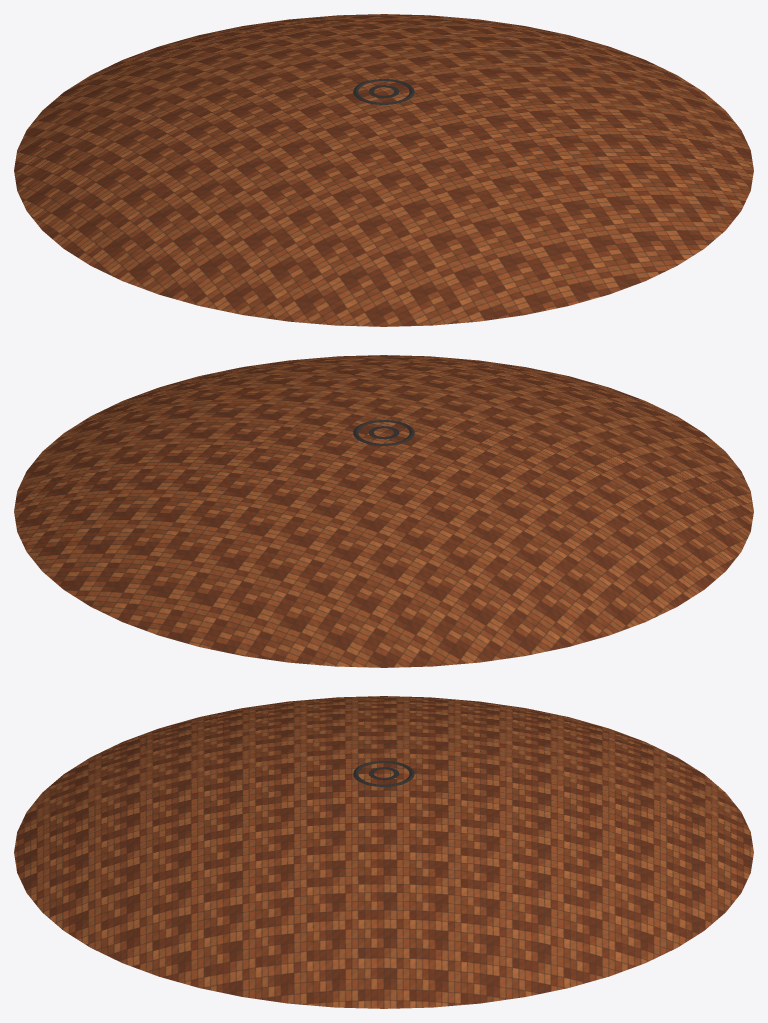
The model's file is kiln_dome.mobile.glb.
3 views of the same model, one above another, from view 1: azimuth 30°, elevation 25°; view 2: azimuth 150°, elevation 25°; view 3: azimuth 270°, elevation 25° (orthographic).
Parts seen in each view (by area): view 1: KilnDome; view 2: KilnDome; view 3: KilnDome.
Boxes of the visible parts, x1,y1,x2,y2 form: KilnDome: (14, 14, 753, 326); KilnDome: (14, 355, 753, 667); KilnDome: (14, 696, 753, 1008).
Size of the model in its own units: 14.4 by 1.71 by 14.4.
2 materials, 1 textured.
